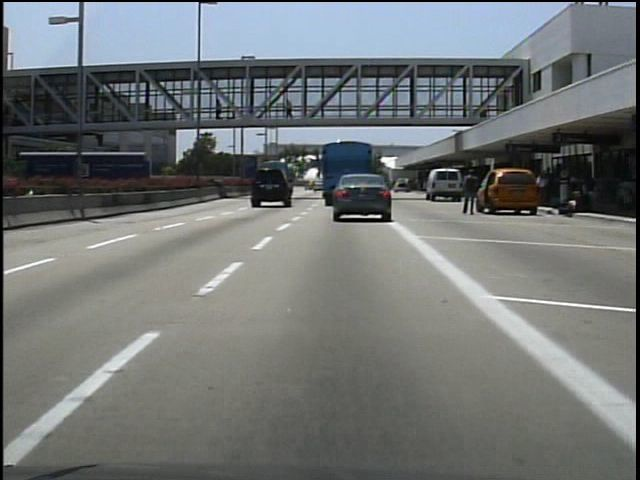person: (460, 166, 483, 220), (213, 94, 228, 122), (283, 97, 298, 123)
